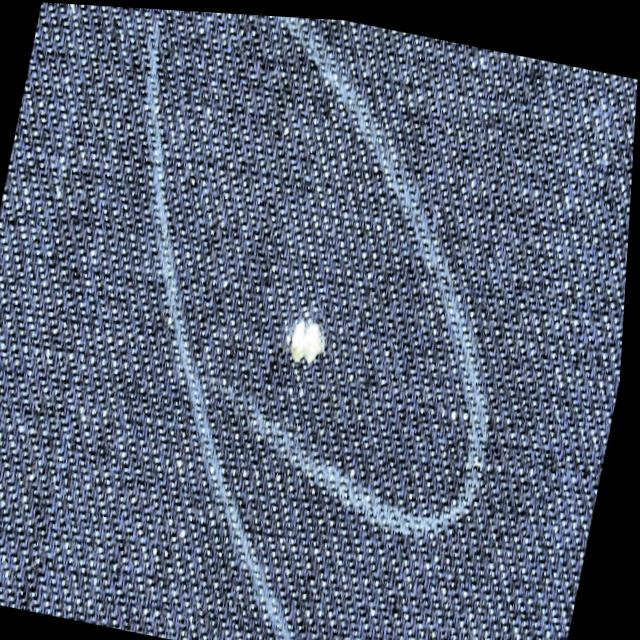Hole: (295, 316, 329, 361)
